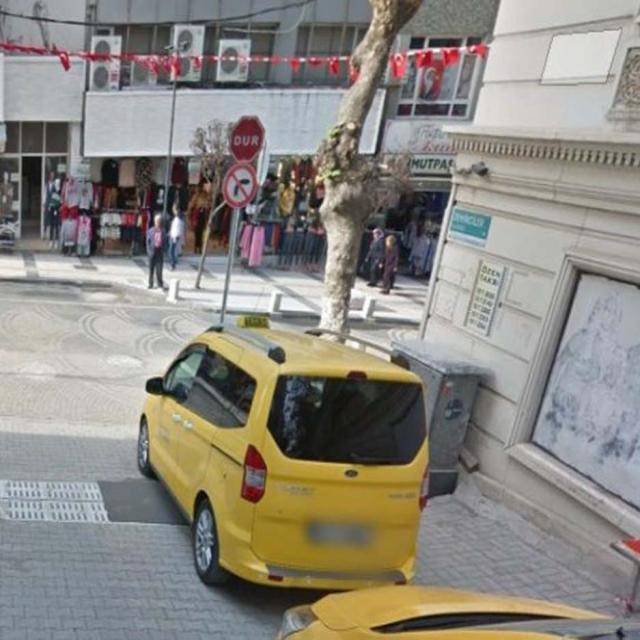dur: (230, 116, 265, 162)
sagadonulmez: (224, 163, 258, 209)
